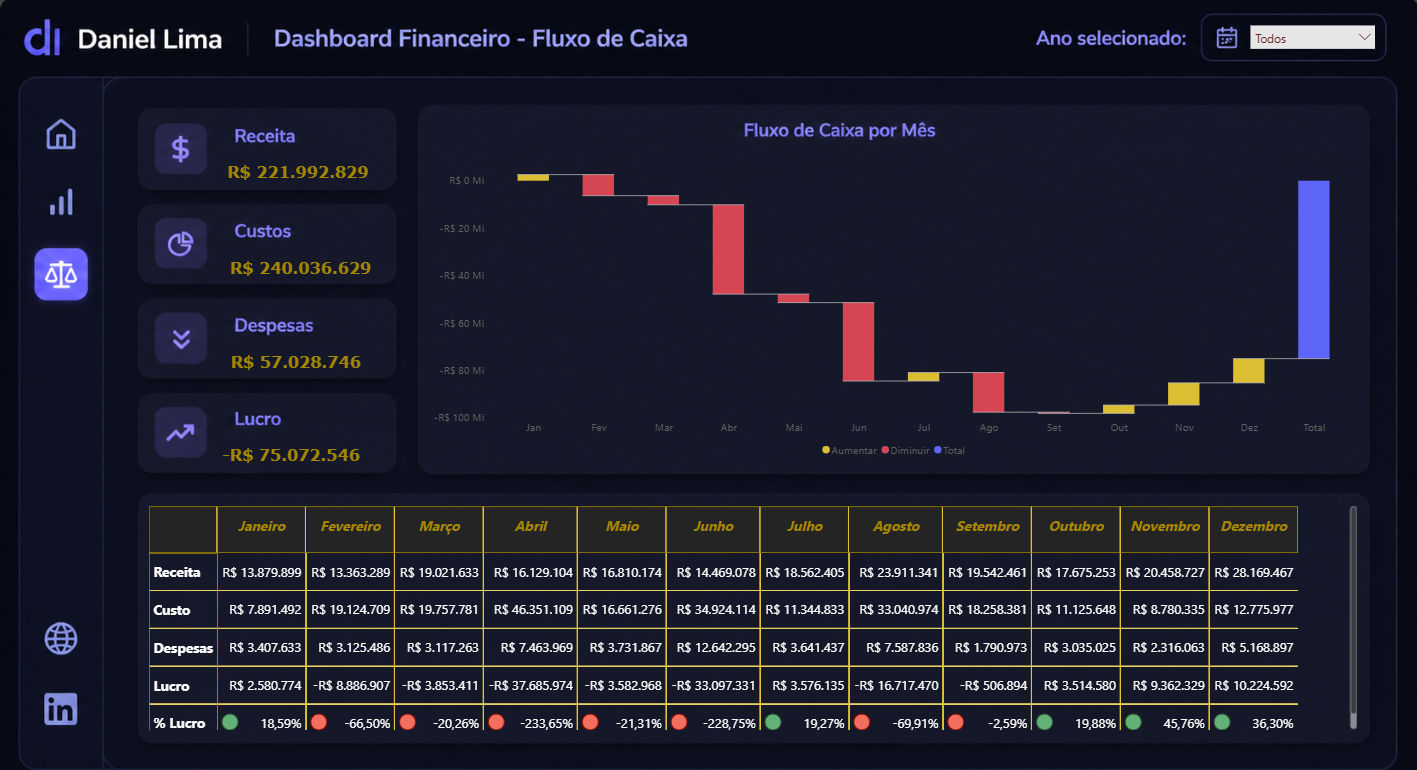

Layout of this report page (visuals, bound fields, positions):
{"tool":"powerbi","page":{"name":"Detalhamento","canvas":[1920,1080],"ordinal":2},"visuals":[{"type":"card","fields":{"Values":["Medidas.Receitas"]},"box":[247.9,192,278.2,60.5],"z":0},{"type":"card","fields":{"Values":["Medidas.Custo"]},"box":[247.9,337.1,281.2,60.5],"z":1},{"type":"card","fields":{"Values":["Medidas.Despesas"]},"box":[247.9,479.2,281.2,60.5],"z":2},{"type":"card","fields":{"Values":["Medidas.Lucro"]},"box":[247.9,631.9,281.2,60.5],"z":3},{"type":"waterfallChart","fields":{"Category":["Calendario.MesAbreviado"],"Y":["Medidas.Lucro"]},"box":[560.9,205.6,1291.1,474.7],"z":4},{"type":"slicer","fields":{"Values":["Calendario.Ano"]},"box":[1572.3,0,308.4,77.1],"z":5},{"type":"pivotTable","fields":{"Columns":["Calendario.NomeMes"],"Values":["Medidas.Receitas","Medidas.Custo","Medidas.Despesas","Medidas.% Lucro"]},"box":[166.3,722.6,1714.4,297.8],"z":6},{"type":"actionButton","box":[25.7,244.9,90.7,92.2],"z":7},{"type":"actionButton","box":[25.7,145.1,90.7,77.1],"z":8}]}

Visuals, with their boxes on the page's 1920x1080 design canvas (x1, y1, x2, y2). These are canvas units, not pixel positions in the 1417x770 screenshot, which may show the page scaled, cropped or inside an application window:
card - Medidas.Receitas: <region>248, 192, 526, 252</region>
card - Medidas.Custo: <region>248, 337, 529, 398</region>
card - Medidas.Despesas: <region>248, 479, 529, 540</region>
card - Medidas.Lucro: <region>248, 632, 529, 692</region>
waterfallChart - Calendario.MesAbreviado x Medidas.Lucro: <region>561, 206, 1852, 680</region>
slicer - Calendario.Ano: <region>1572, 0, 1881, 77</region>
pivotTable - Calendario.NomeMes x Medidas.Receitas: <region>166, 723, 1881, 1020</region>
actionButton: <region>26, 245, 116, 337</region>
actionButton: <region>26, 145, 116, 222</region>
